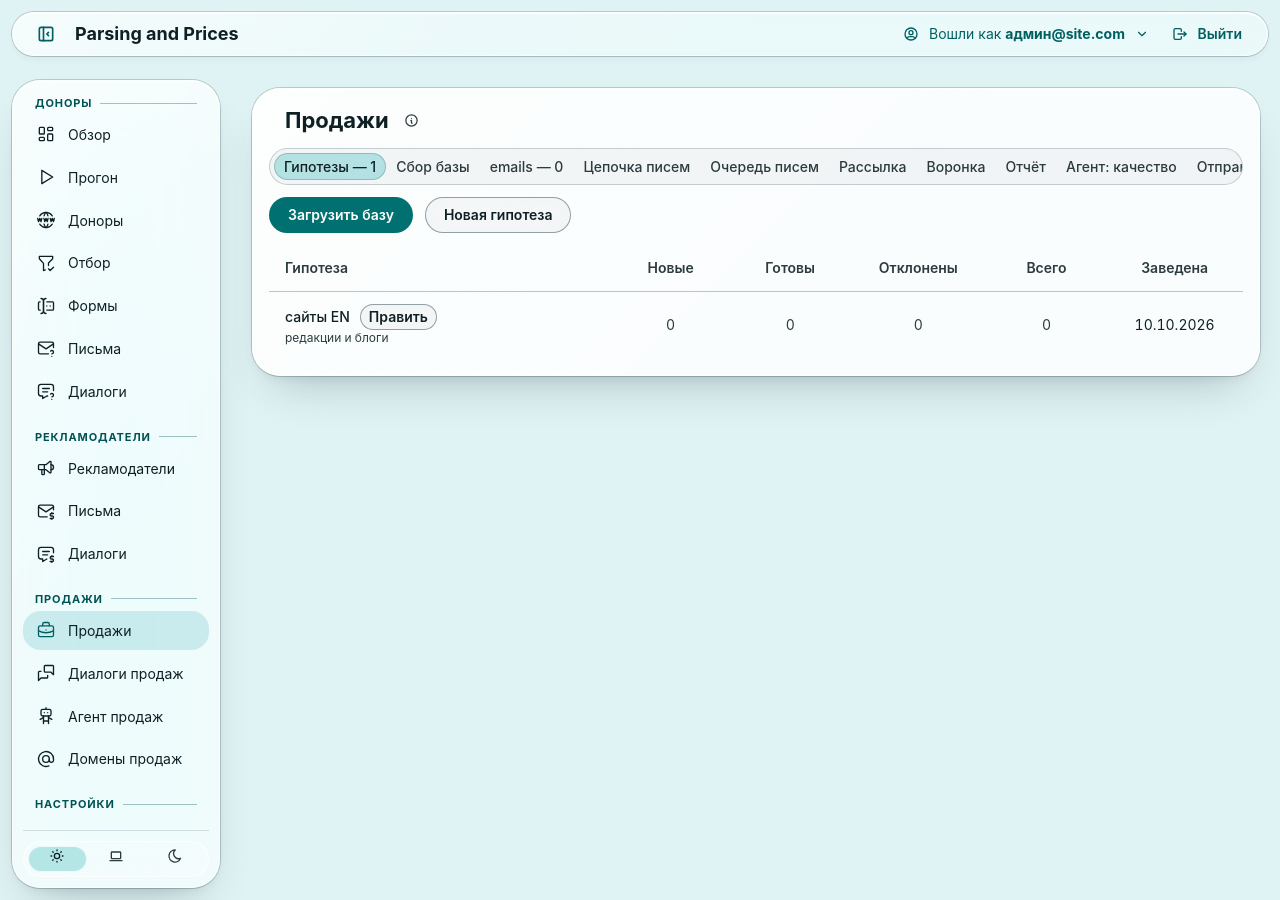
Test: новая гипотеза: вкладка «Гипотезы» › заведённая — в таблице, окно закрыто, на сервер ушли имя и описание
This screenshot has width=1280, height=900.
Expected: the text "сайты EN" is shown, [285,307,350,327]
Click the button "Новая гипотеза" at (498, 216), box [425,198,572,234]
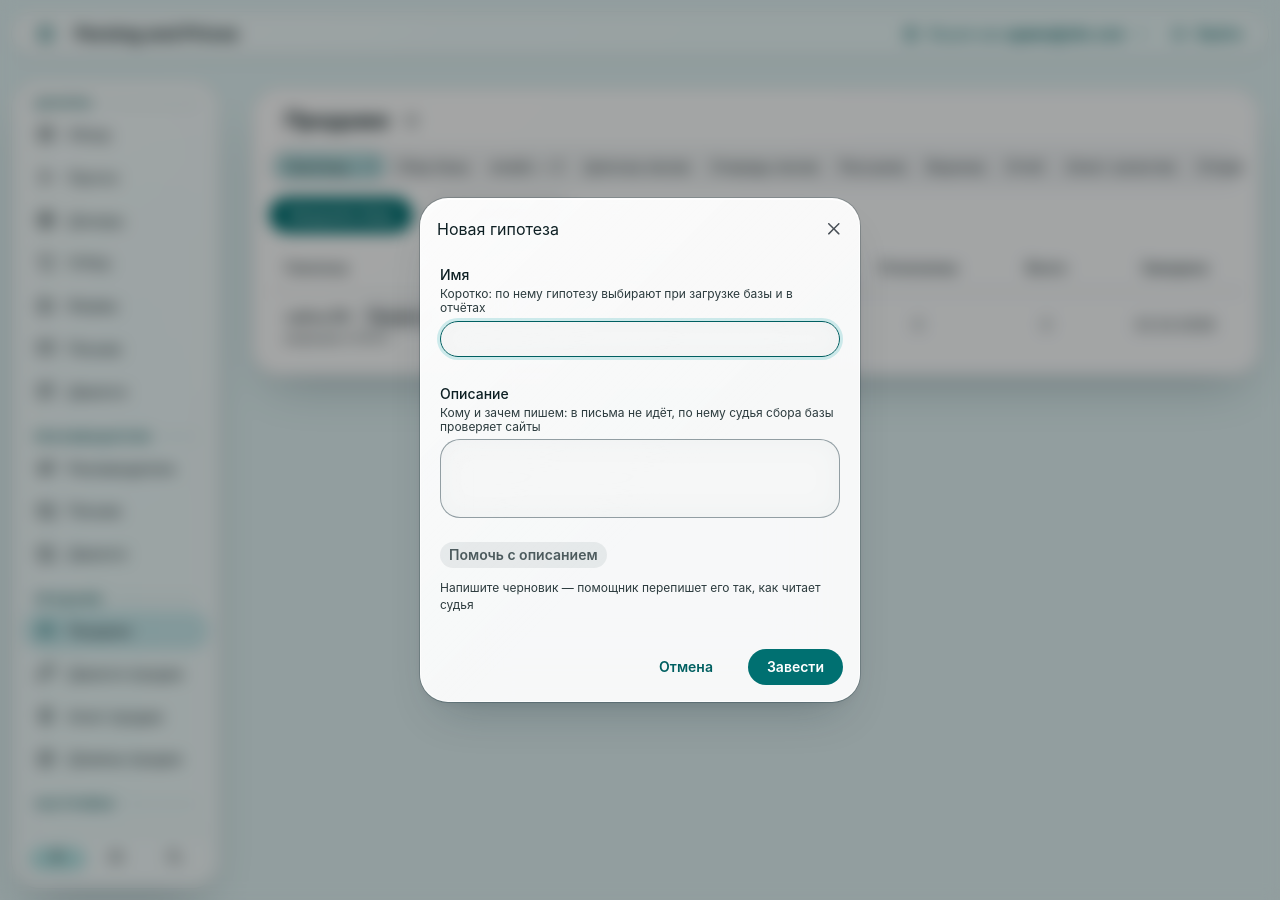
Type "сайты DE" into the field labelled "Имя" at (640, 339), box [440,321,840,357]
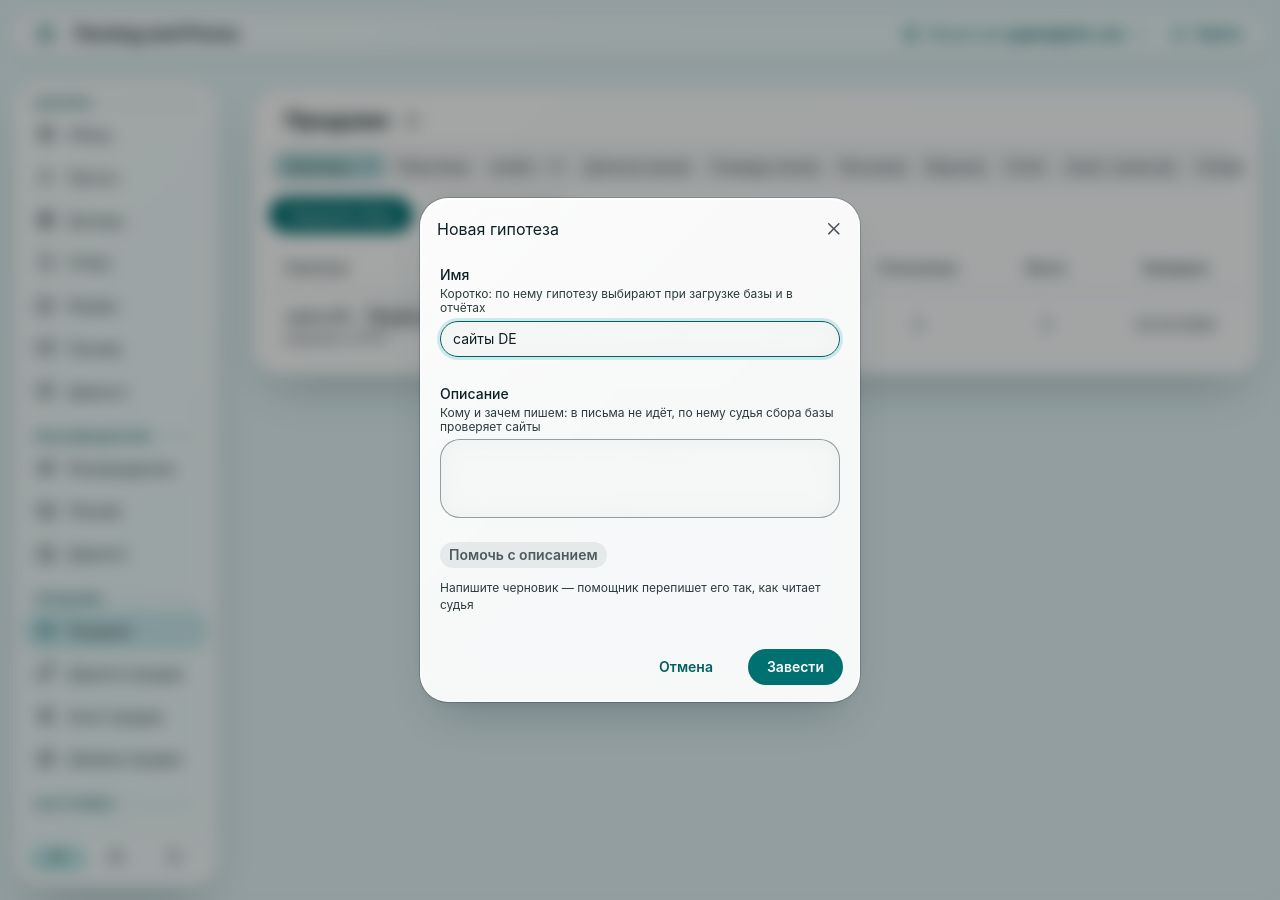
Type "сайты о путешествиях" into the text box labelled "Описание" at (640, 479), box [440,439,840,518]
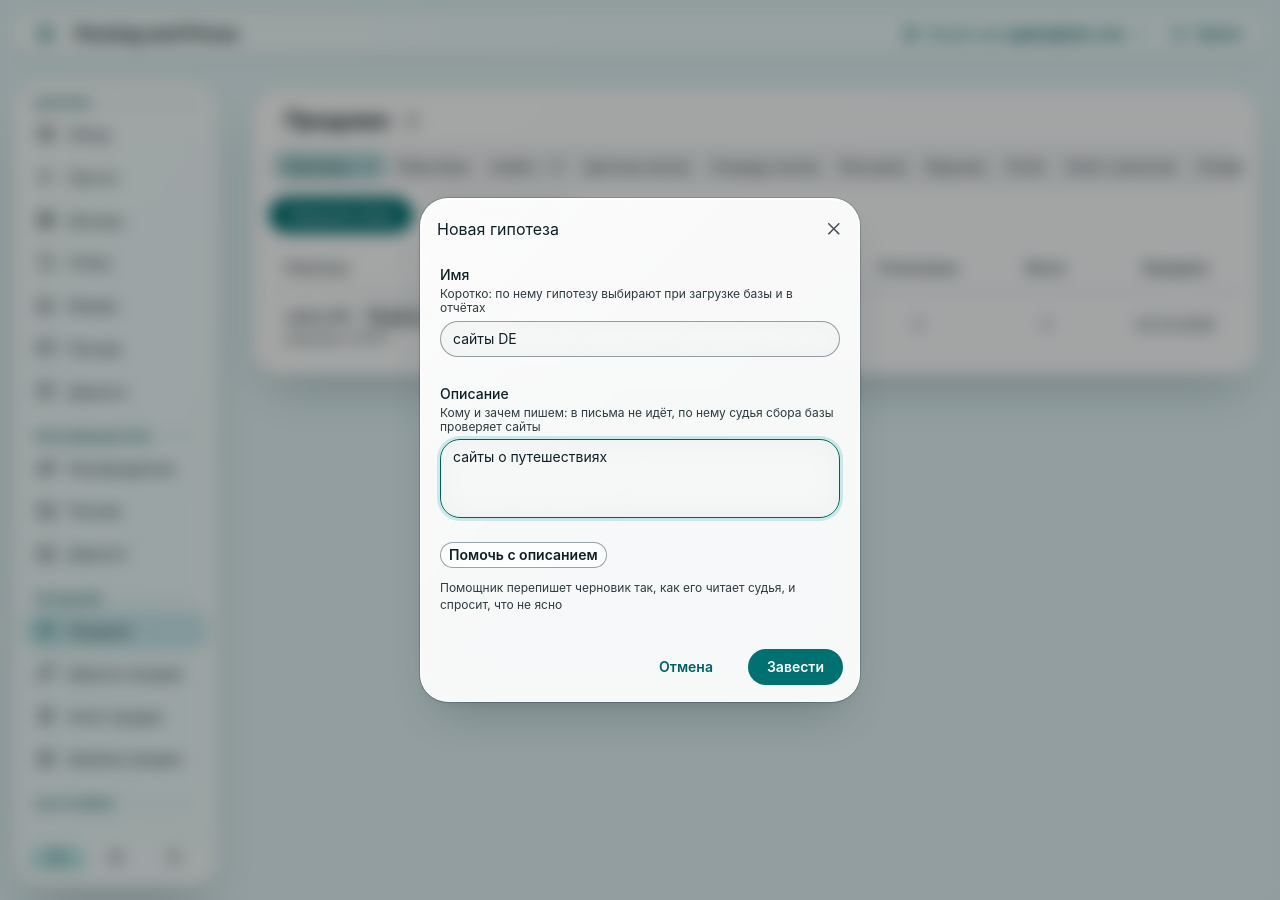
Click the button "Завести" at (796, 667), box [748,649,843,685]
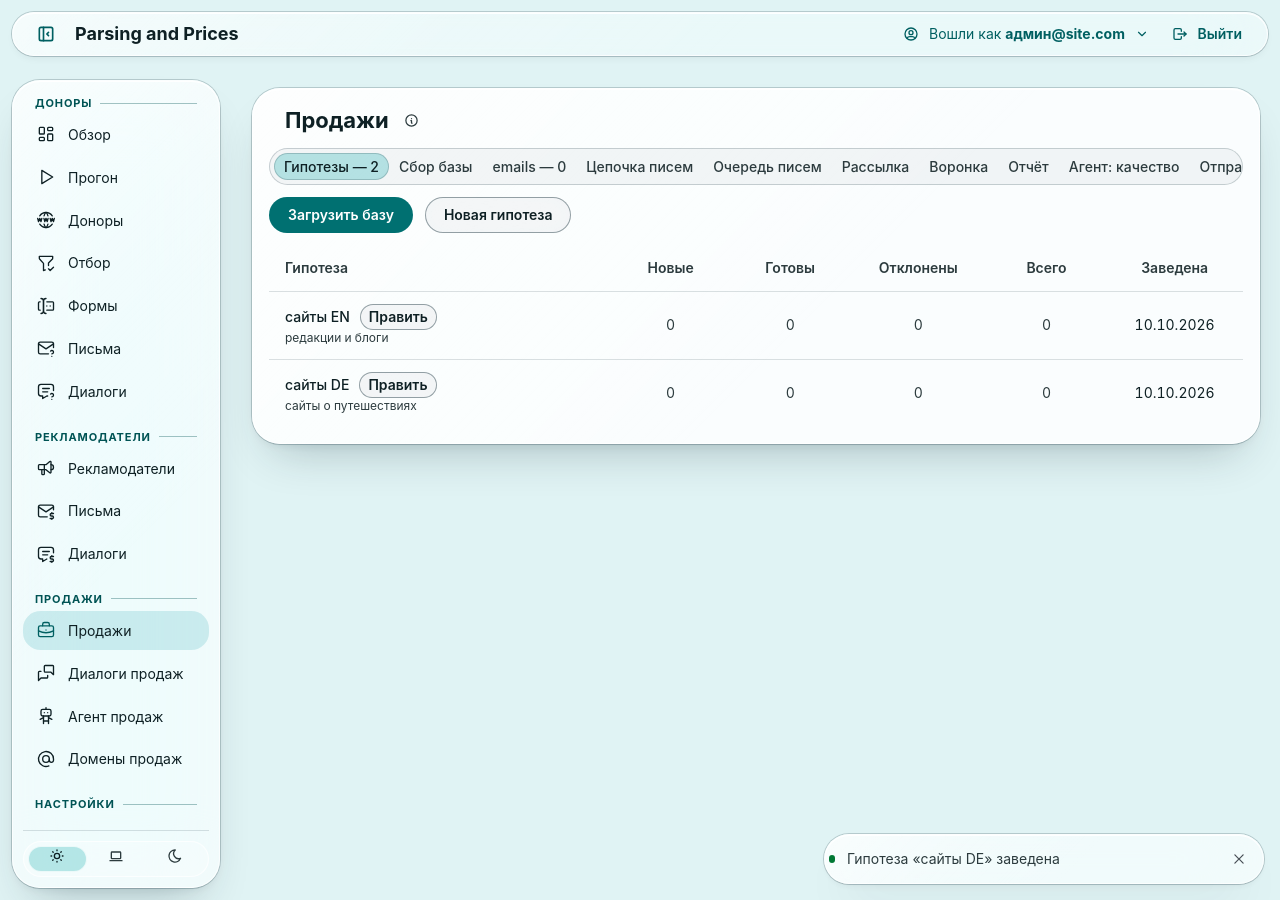
Result: the text "сайты о путешествиях" is shown at [285,398,417,415]
Result: the dialog is gone
Result: the text "Гипотеза «сайты DE» заведена" is shown at [847,850,1060,867]
